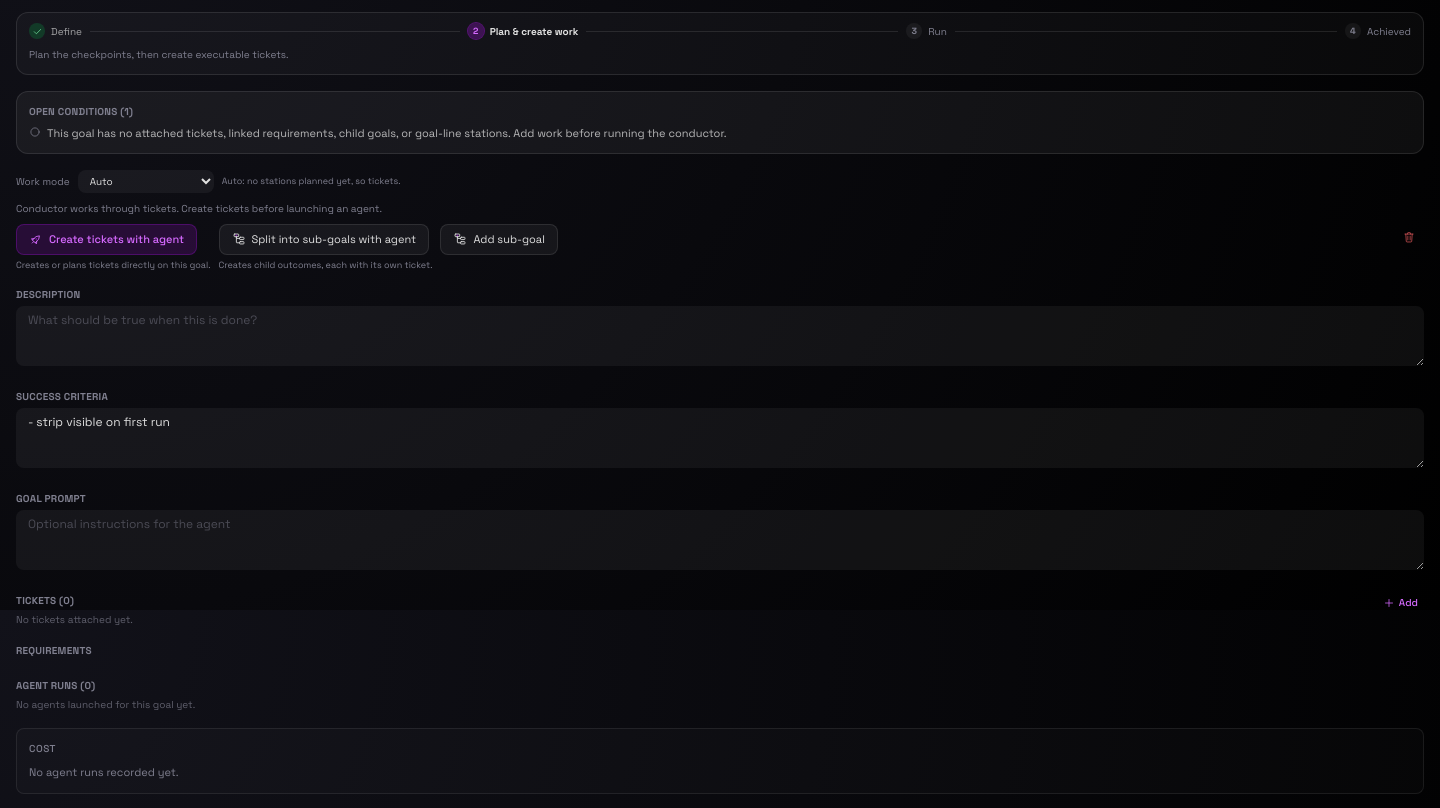
GoalDetailPanel ticket browser › filters the picker list as the user types
(page scrolled)
Click the button with test id "goal-ticket-add-btn" at (1400, 602), box [1377,593,1424,612]
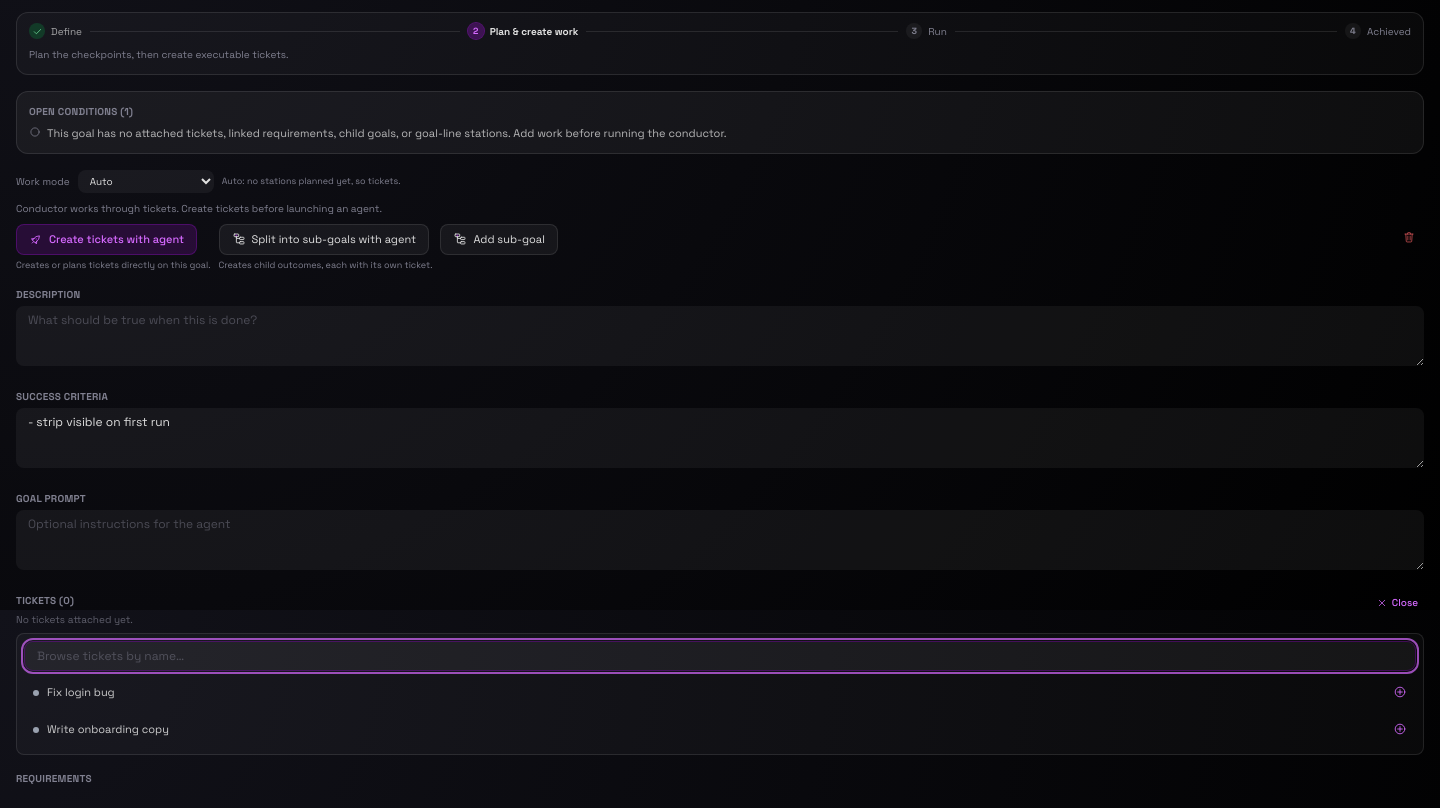
Type "login" into the field with test id "goal-ticket-picker-search" at (720, 656), box [25,642,1415,670]
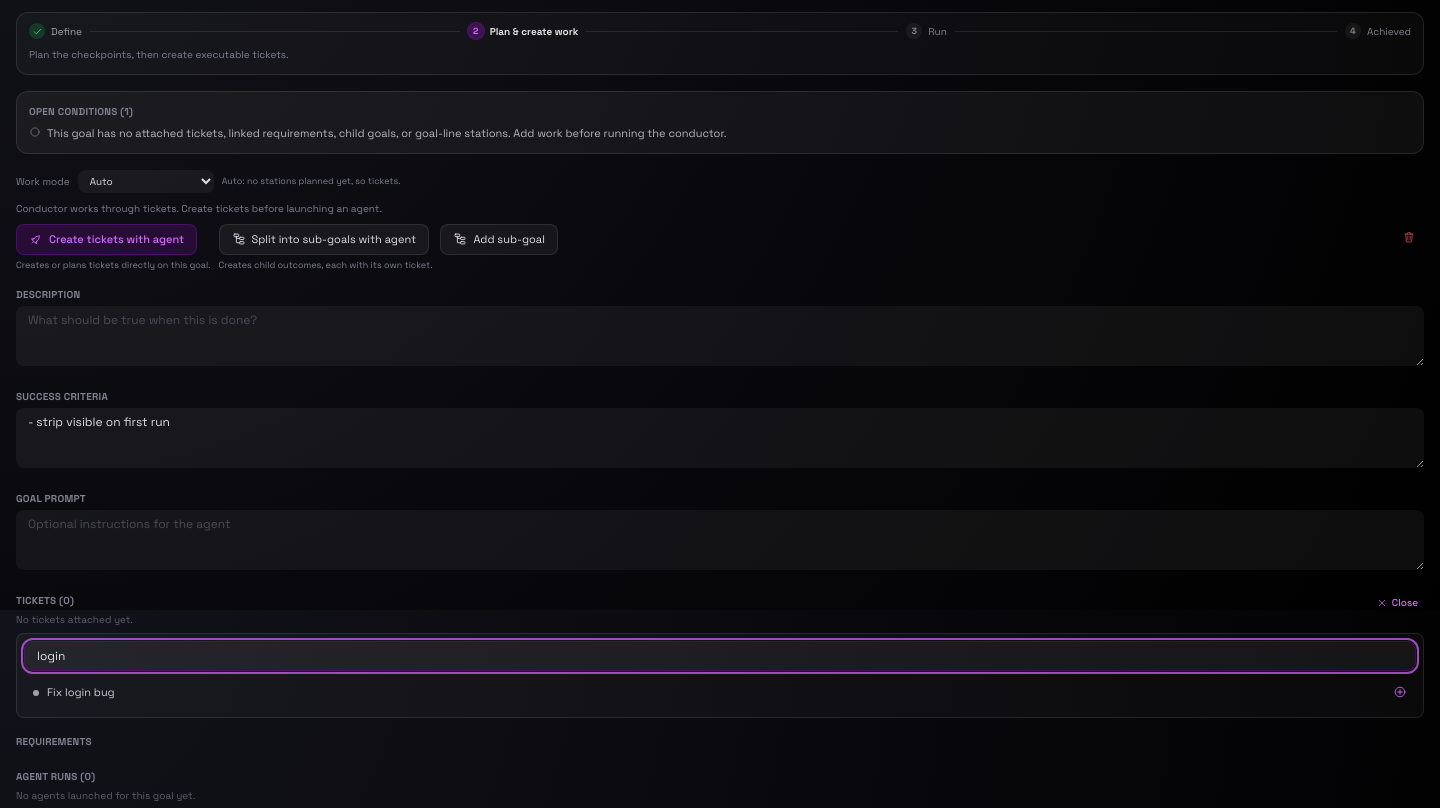
Result: the list item with test id "goal-ticket-option-t1" is shown at [25,676,1415,709]
Result: the list item with test id "goal-ticket-option-t2" is gone
